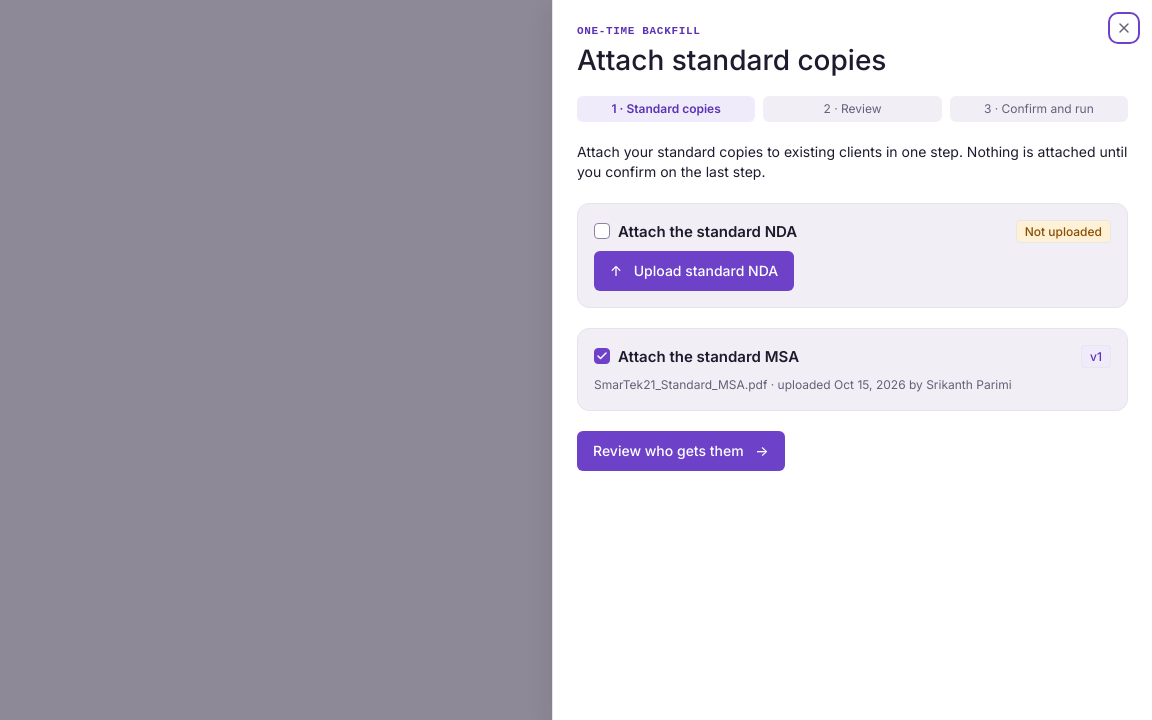
Test case: steps 2 and 3 · dry run, confirm and run › the dry run works before a standard is uploaded, but the run waits for the upload
This screenshot has width=1152, height=720.
Click the checkbox named "Attach the standard NDA" next to "Attach the standard NDA".
click(602, 231)  # box [594,223,610,239]
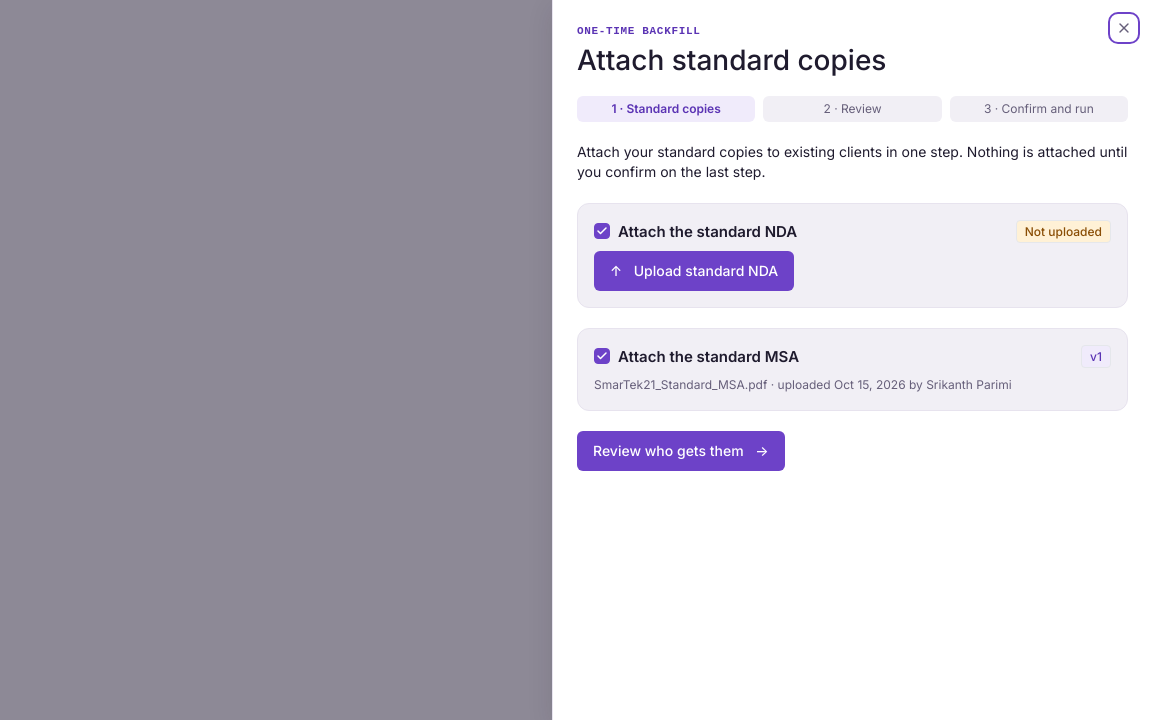
Click the button "Review who gets them →".
click(681, 451)  # box [577,431,785,471]
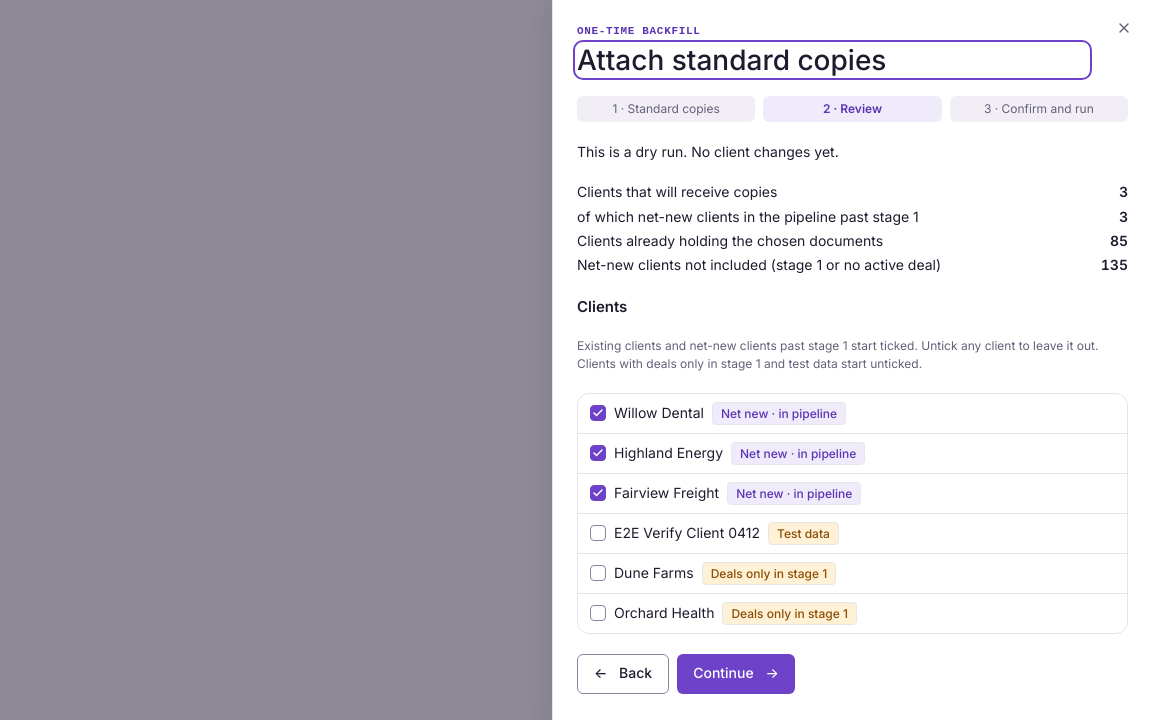
Expected: the text "Willow Dental" is shown, [614,403,704,423]
Click the button "Continue →".
click(736, 674)  # box [677,654,795,694]
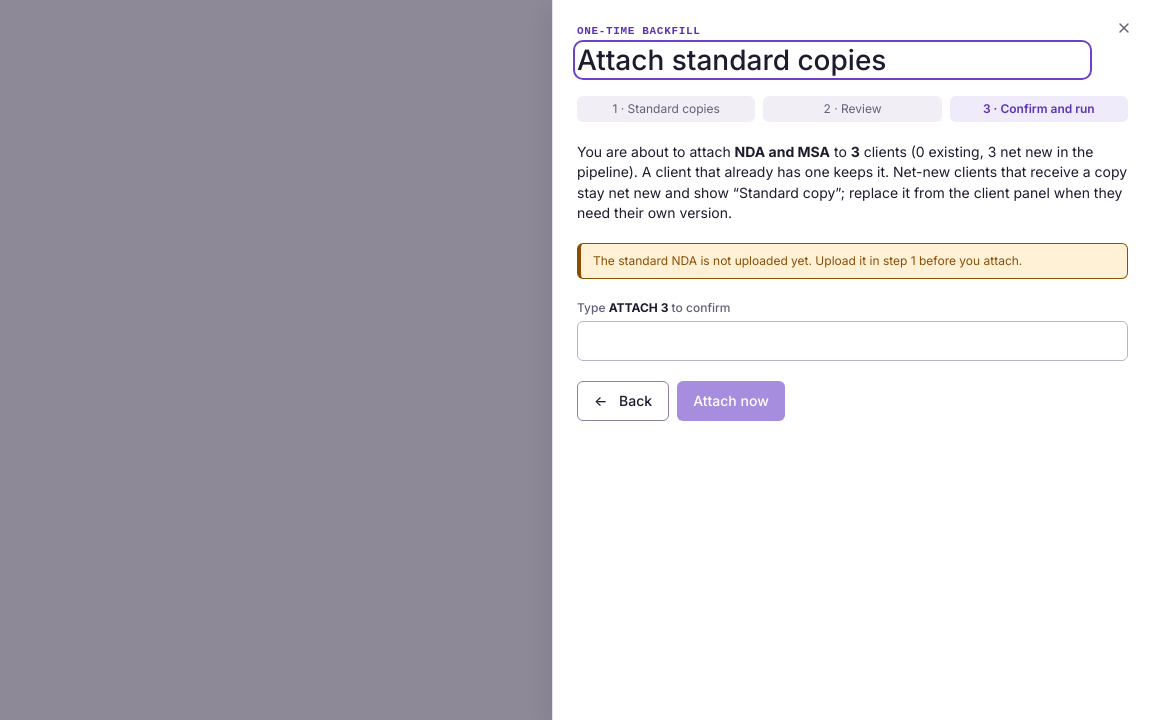
Expected: the text "The standard NDA is not uploaded yet. Upload it in step 1 before you attach." is shown, [577,243,1128,279]
Expected: the field labelled "Type ATTACH 3 to confirm" is disabled, [577,321,1128,361]
Expected: the button "Attach now" is disabled, [677,381,785,421]
